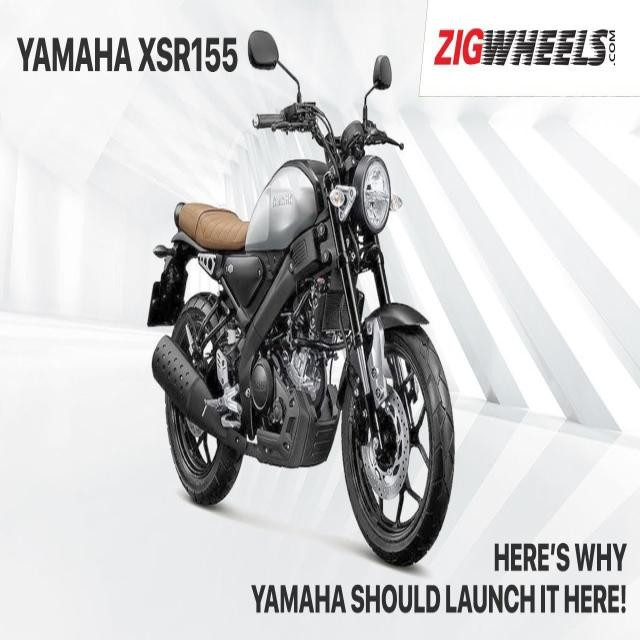Bike: (137, 26, 471, 562)
